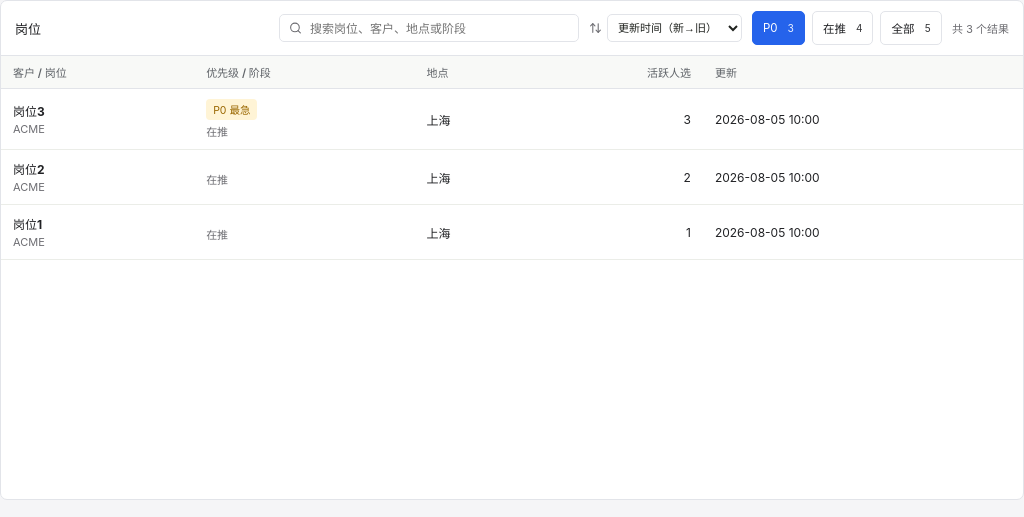
it: 岗位列表 Jobs › 默认 P0 视图展示对应岗位，各筛选按钮带联动计数
Expected: the row "岗位1 ACME 在推 上海 1 2026-08-05 10:00" is shown, [1, 204, 1023, 260]
Expected: the row "岗位3 ACME P0 最急 在推 上海 3 2026-08-05 10:00" is shown, [1, 89, 1023, 150]
Click the button "在推 4".
click(843, 28)  # box [812, 11, 874, 45]
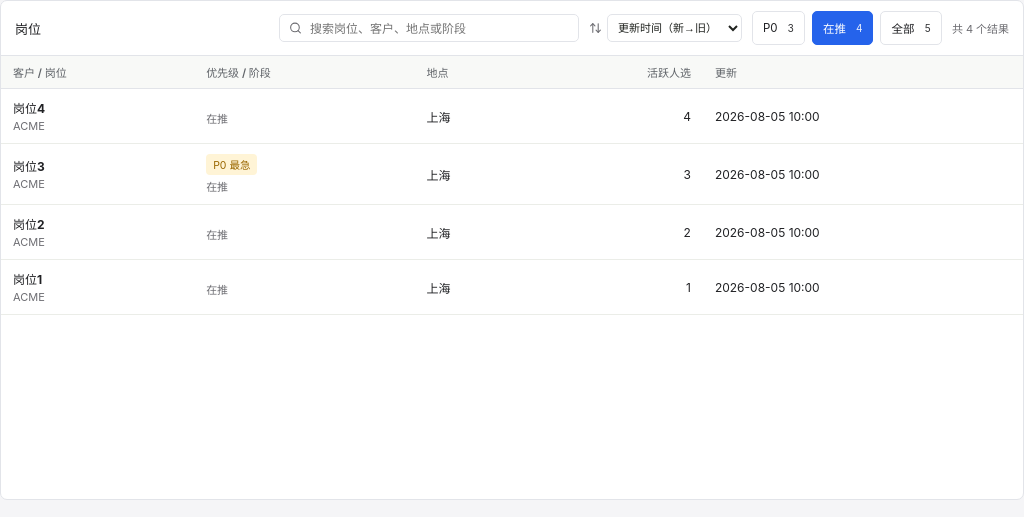
Expected: the row "岗位5" is not shown
Expected: the row "岗位4 ACME 在推 上海 4 2026-08-05 10:00" is shown, [1, 89, 1023, 144]
Expected: the message reads "共 4 个结果", [952, 22, 1009, 36]
Click the button "全部 5".
click(911, 28)  # box [880, 11, 942, 45]
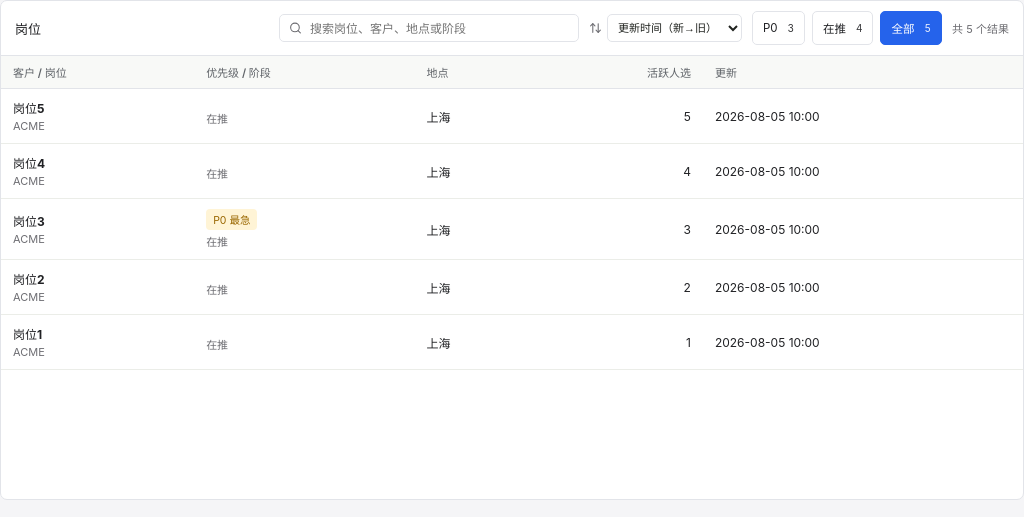
Expected: the number of rows is 6, [1, 56, 1023, 88]; [1, 89, 1023, 144]; [1, 144, 1023, 198]; [1, 198, 1023, 260]; [1, 260, 1023, 314]; [1, 314, 1023, 370]
Expected: the message reads "共 5 个结果", [952, 22, 1009, 36]
